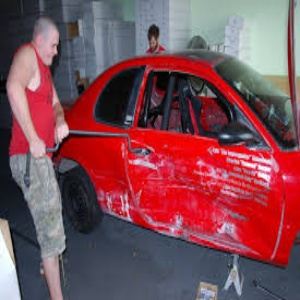door_scratch: (105, 150, 261, 250)
